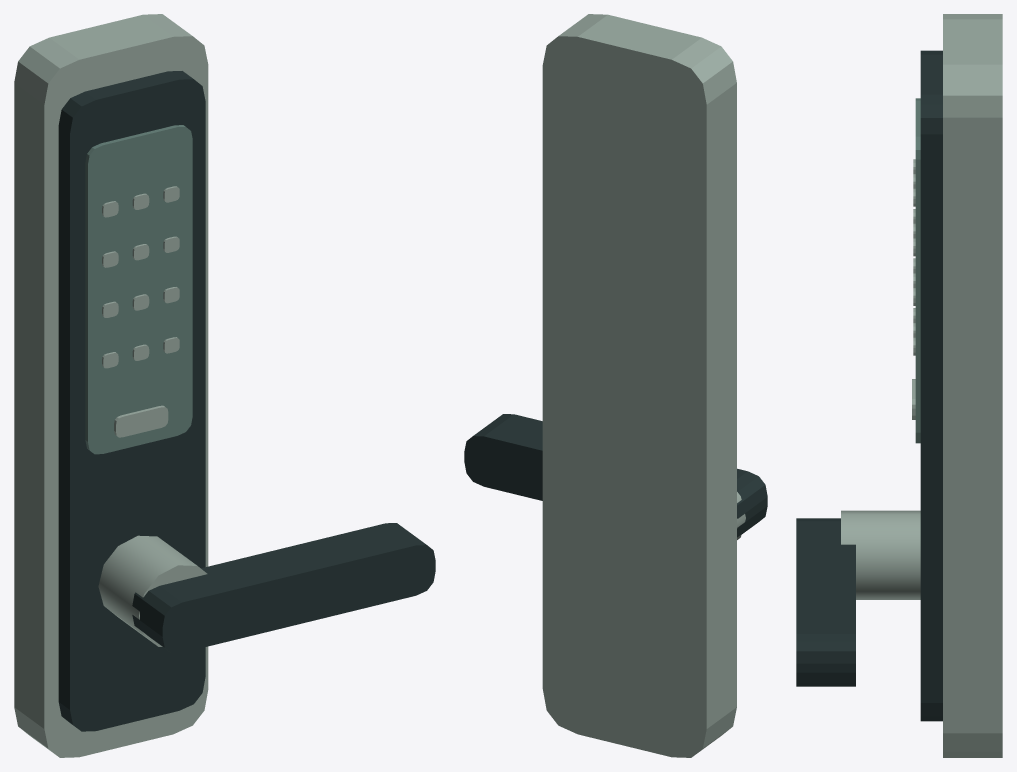
The model's file is door-lock-v1.glb.
3 views of the same model, side by side, from view 1: azimuth 30°, elevation 25°; view 2: azimuth 150°, elevation 25°; view 3: azimuth 270°, elevation 25° (orthographic).
Parts seen in each view (by area): view 1: 손잡이형 디지털 도어록; view 2: 손잡이형 디지털 도어록; view 3: 손잡이형 디지털 도어록.
Part boxes in pixels (x1=…): 손잡이형 디지털 도어록: x1=14, y1=14, x2=435, y2=757; 손잡이형 디지털 도어록: x1=464, y1=14, x2=767, y2=757; 손잡이형 디지털 도어록: x1=796, y1=14, x2=1002, y2=757.
Bounding box in the file's own units: 0.145 × 0.305 × 0.083.
